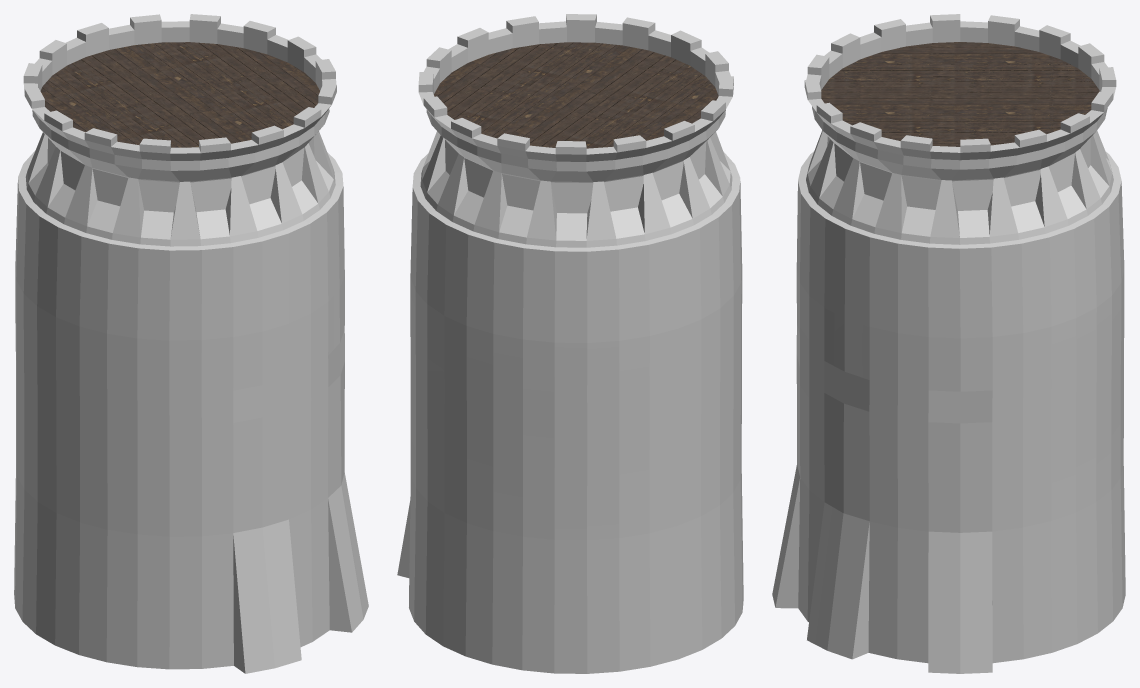
The model's file is Tower-4.fbx.
3 renders of one model, left to right at view 1: azimuth 30°, elevation 25°; view 2: azimuth 150°, elevation 25°; view 3: azimuth 270°, elevation 25°, orthographic.
Parts seen in each view (by area): view 1: VezaGulataTypB; view 2: VezaGulataTypB; view 3: VezaGulataTypB.
Boxes of the visible parts, bbox=[...] form: VezaGulataTypB: bbox=[14, 14, 368, 673]; VezaGulataTypB: bbox=[397, 14, 743, 673]; VezaGulataTypB: bbox=[772, 14, 1125, 673].
Bounding box in the file's own units: 1732 × 2784 × 1732.
